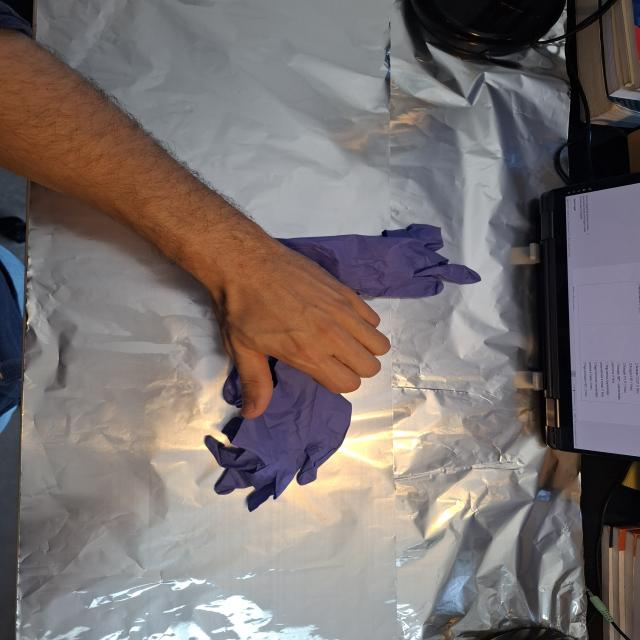glove_off: (198, 242, 393, 420)
